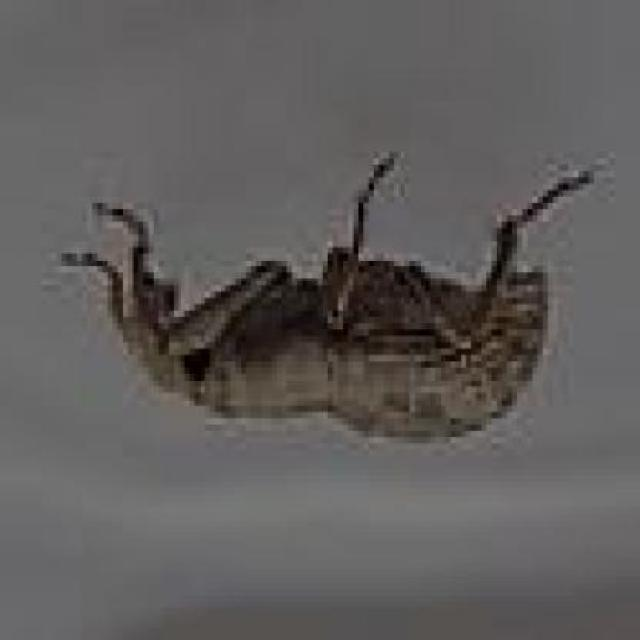rice-bug: (74, 156, 592, 441)
